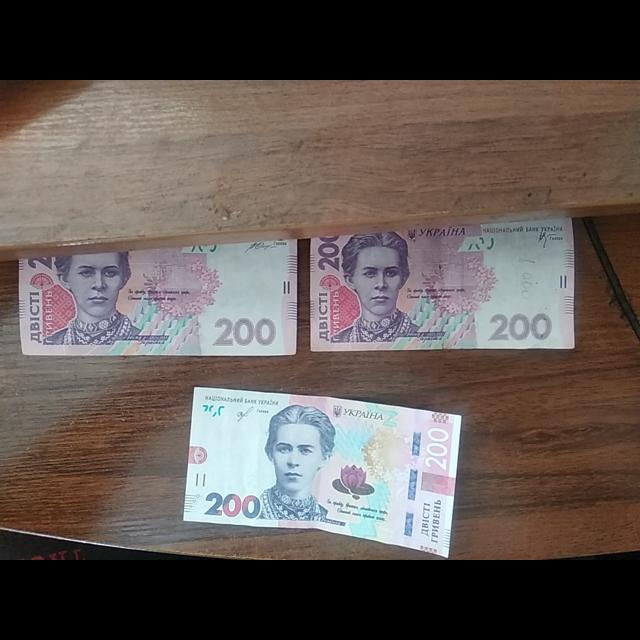200uah: (182, 387, 462, 558), (311, 219, 575, 352), (18, 239, 298, 357)
